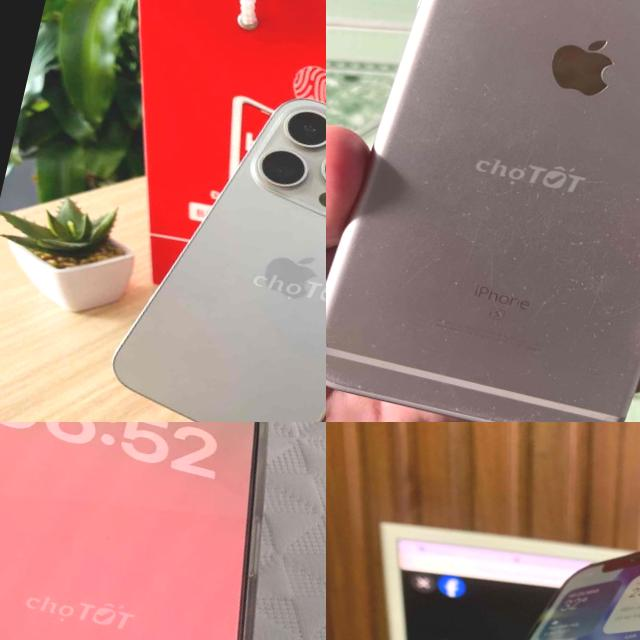gen_12_13: (328, 452, 640, 640)
gen_15: (69, 50, 326, 422)
gen_16: (0, 422, 267, 640)
gen_6: (326, 0, 640, 422)
